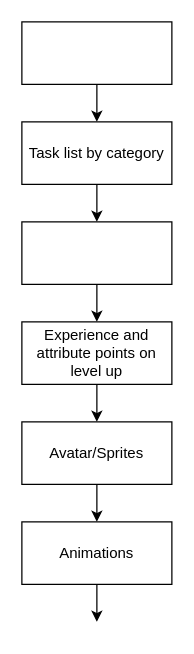
This 194x654 diagram has some shape labels left out. The centre of each missing label's shape, as x and y in pixels:
"LVLUP Roadmap" goes at point (96, 52).
"Time allotments for each task" goes at point (96, 252).
